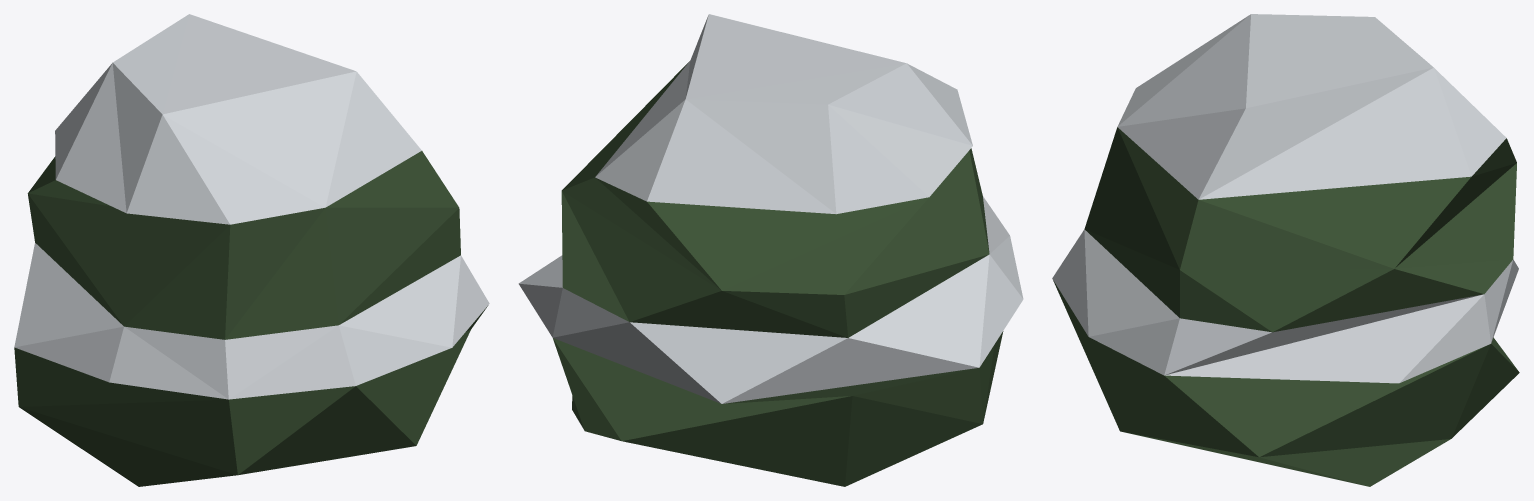
Rendered from deco_winter_2.glb.
The picture shows the model from 3 angles, left to right: view 1: azimuth 30°, elevation 25°; view 2: azimuth 150°, elevation 25°; view 3: azimuth 270°, elevation 25°; orthographic projection. The views are drawn at different scales.
Visible parts, largest first — view 1: lod0; view 2: lod0; view 3: lod0.
Boxes of the visible parts, box(x1,y1,x2,y2) form: lod0: box(14, 14, 489, 486); lod0: box(518, 14, 1023, 486); lod0: box(1052, 14, 1519, 486).
Bounding box in the file's own units: 1.16 × 0.9327 × 1.12.
